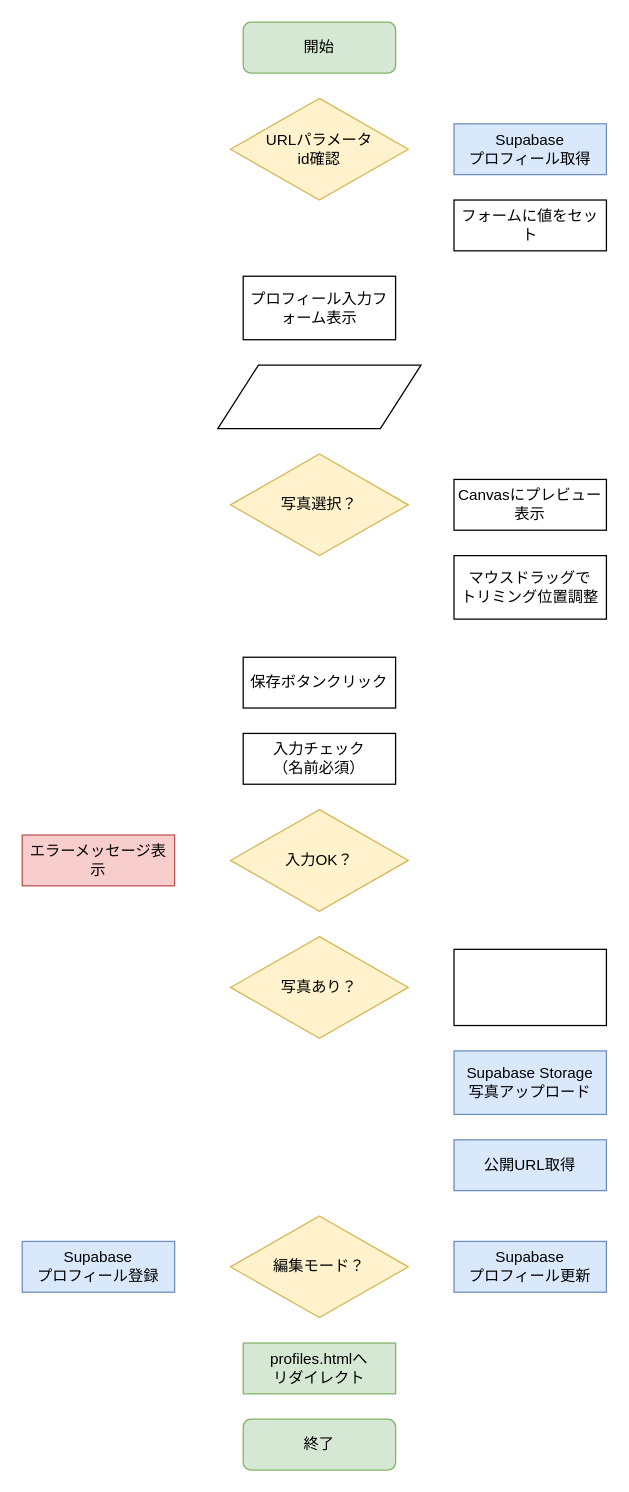
This 629x1492 diagram has some shape labels left out. The shapes that lost their labels are listed below. From the top down, each one's centre as x and y in pixels, then its label:
[319,396]: プロフィール情報入力 （名前、年齢、職業等）
[529,987]: Canvasから Blob生成（JPEG 90%）
